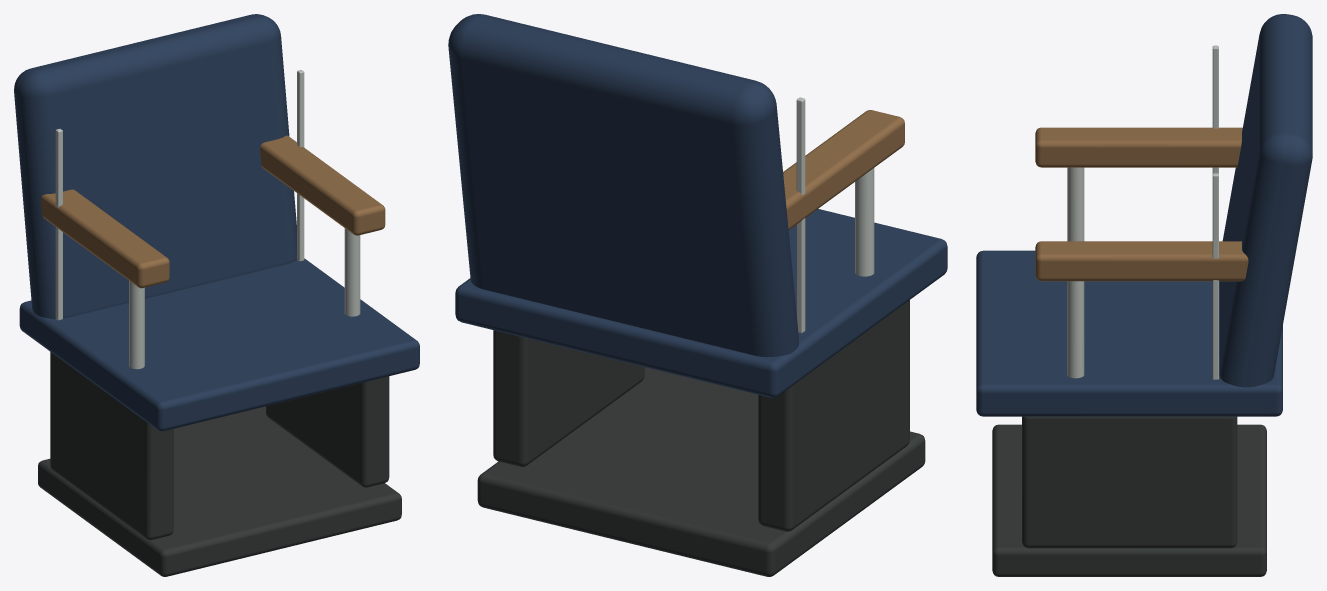
File: planetarium-and-optical-observatory-curved-audience-se-d33bc8dc__31822.glb
3 renders of one model, left to right at view 1: azimuth 30°, elevation 25°; view 2: azimuth 150°, elevation 25°; view 3: azimuth 270°, elevation 25°, orthographic. The views are drawn at different scales.
Parts seen in each view (by area): view 1: curved-audience-seat; view 2: curved-audience-seat; view 3: curved-audience-seat.
Boxes of the visible parts, x1,y1,x2,y2 form: curved-audience-seat: [14, 14, 419, 576]; curved-audience-seat: [448, 14, 947, 576]; curved-audience-seat: [976, 14, 1312, 576].
Size of the model in its own units: 0.61 by 0.9042 by 0.6252.
